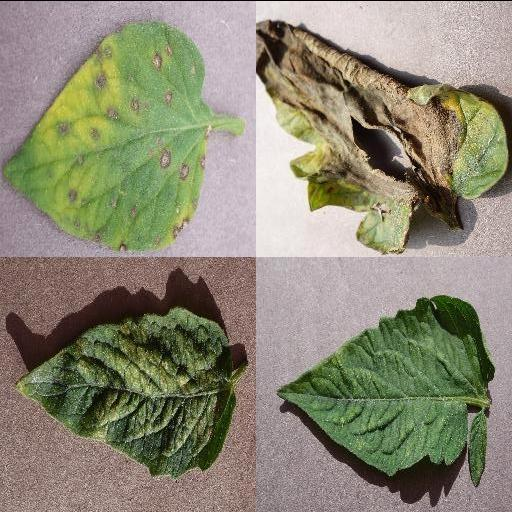Late Blight: (256, 19, 512, 255)
Septoria: (4, 19, 206, 247)
Spider Mites: (275, 294, 495, 478), (12, 307, 236, 480)
